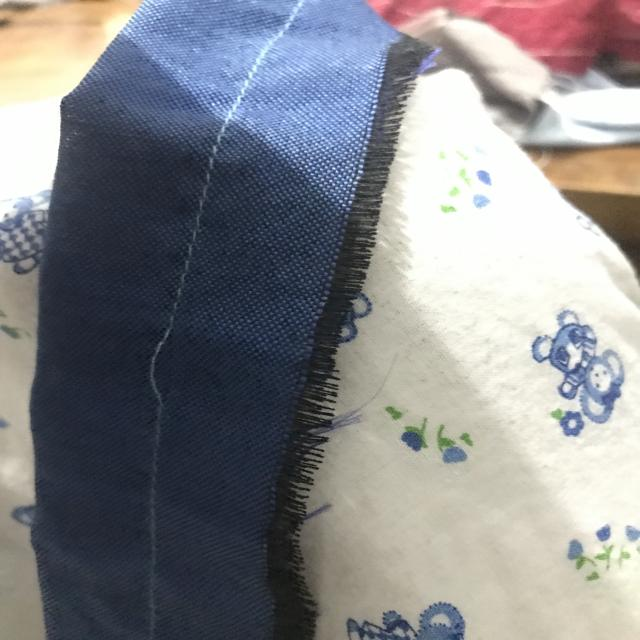good: (161, 164, 227, 253)
skip: (115, 299, 203, 419)
